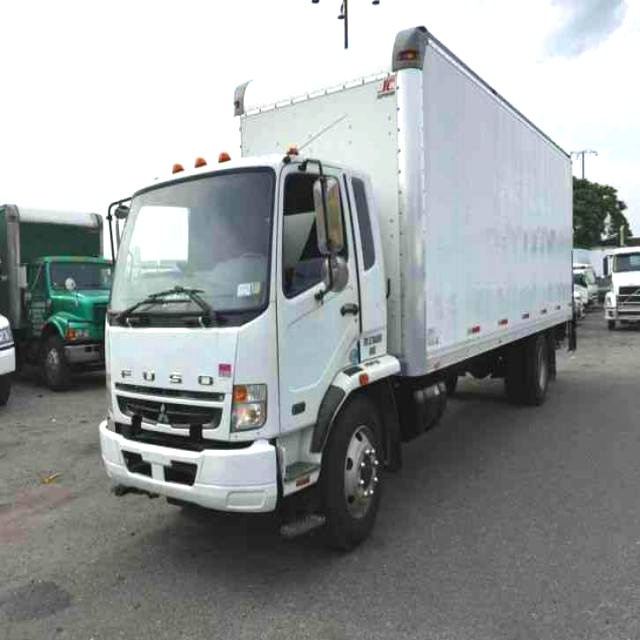truck: (54, 16, 606, 565)
